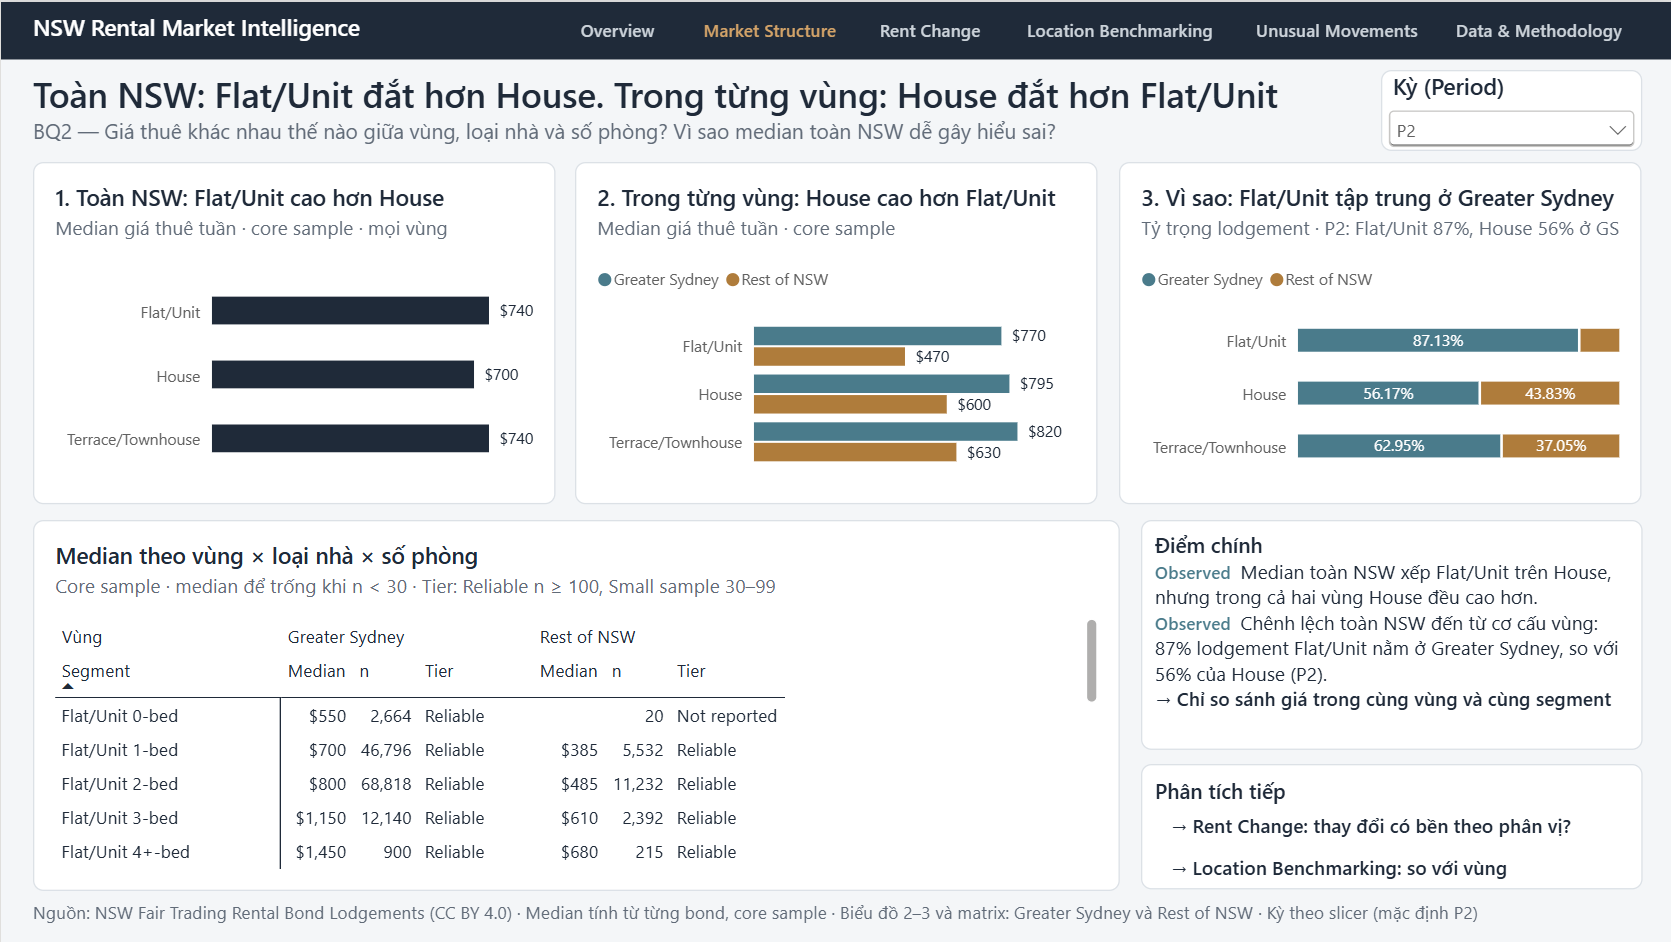

The dashboard page shown, as its layout file describes it:
{"tool":"powerbi","page":{"name":"Market Structure","canvas":[1280,720],"ordinal":1},"visuals":[{"type":"textbox","box":[0,0,1280,44],"z":1000},{"type":"textbox","box":[24,8,380,30],"z":1001},{"type":"actionButton","box":[424,6,96,32],"z":1002},{"type":"actionButton","box":[520,6,136,32],"z":1002},{"type":"actionButton","box":[656,6,112,32],"z":1002},{"type":"actionButton","box":[768,6,176,32],"z":1002},{"type":"actionButton","box":[944,6,156,32],"z":1002},{"type":"actionButton","box":[1100,6,156,32],"z":1002},{"type":"textbox","box":[24,52,1010,36],"z":2000},{"type":"slicer","fields":{"Values":["dim_period.period"]},"box":[1056,52,200,62],"z":2000},{"type":"textbox","box":[24,88,1010,26],"z":2000},{"type":"clusteredBarChart","title":"1. Toàn NSW: Flat/Unit cao hơn House","fields":{"Category":["dim_segment.dwelling_type"],"Y":["fact_lodgements.Median Rent"]},"box":[24,122,400,262],"z":3000},{"type":"clusteredBarChart","title":"2. Trong từng vùng: House cao hơn Flat/Unit","fields":{"Category":["dim_segment.dwelling_type"],"Series":["dim_postcode.region"],"Y":["fact_lodgements.Median Rent"]},"box":[440,122,400,262],"z":4000},{"type":"hundredPercentStackedBarChart","title":"3. Vì sao: Flat/Unit tập trung ở Greater Sydney","fields":{"Category":["dim_segment.dwelling_type"],"Series":["dim_postcode.region"],"Y":["fact_lodgements.Valid Sample Size"]},"box":[856,122,400,262],"z":5000},{"type":"pivotTable","title":"Median theo vùng × loại nhà × số phòng","fields":{"Columns":["dim_postcode.region"],"Rows":["dim_segment.segment_label"],"Values":["fact_lodgements.Median Rent (reported)","fact_lodgements.Valid Sample Size","fact_lodgements.Sample Tier"]},"box":[24,396,832,284],"z":6000},{"type":"textbox","box":[872,396,384,176],"z":7000},{"type":"textbox","box":[884,404,360,160],"z":7001},{"type":"textbox","box":[872,584,384,96],"z":8000},{"type":"textbox","box":[884,592,360,80],"z":8001},{"type":"actionButton","box":[884,614,360,28],"z":8002},{"type":"actionButton","box":[884,646,360,28],"z":8002},{"type":"textbox","box":[24,688,1232,26],"z":30000}]}

Visuals, with their boxes in screenshot pixels (x1, y1, x2, y2), scaled from the page's 1280x720 canvas onto the 1671x942 screenshot:
textbox: 0:0:1670:58
textbox: 31:10:527:50
actionButton: 554:8:679:50
actionButton: 679:8:856:50
actionButton: 856:8:1003:50
actionButton: 1003:8:1232:50
actionButton: 1232:8:1436:50
actionButton: 1436:8:1640:50
textbox: 31:68:1350:115
slicer - dim_period.period: 1379:68:1640:149
textbox: 31:115:1350:149
"1. Toàn NSW: Flat/Unit cao hơn House" clusteredBarChart: 31:160:554:502
"2. Trong từng vùng: House cao hơn Flat/Unit" clusteredBarChart: 574:160:1097:502
"3. Vì sao: Flat/Unit tập trung ở Greater Sydney" hundredPercentStackedBarChart: 1117:160:1640:502
"Median theo vùng × loại nhà × số phòng" pivotTable: 31:518:1117:890
textbox: 1138:518:1640:748
textbox: 1154:529:1624:738
textbox: 1138:764:1640:890
textbox: 1154:775:1624:879
actionButton: 1154:803:1624:840
actionButton: 1154:845:1624:882
textbox: 31:900:1640:934
